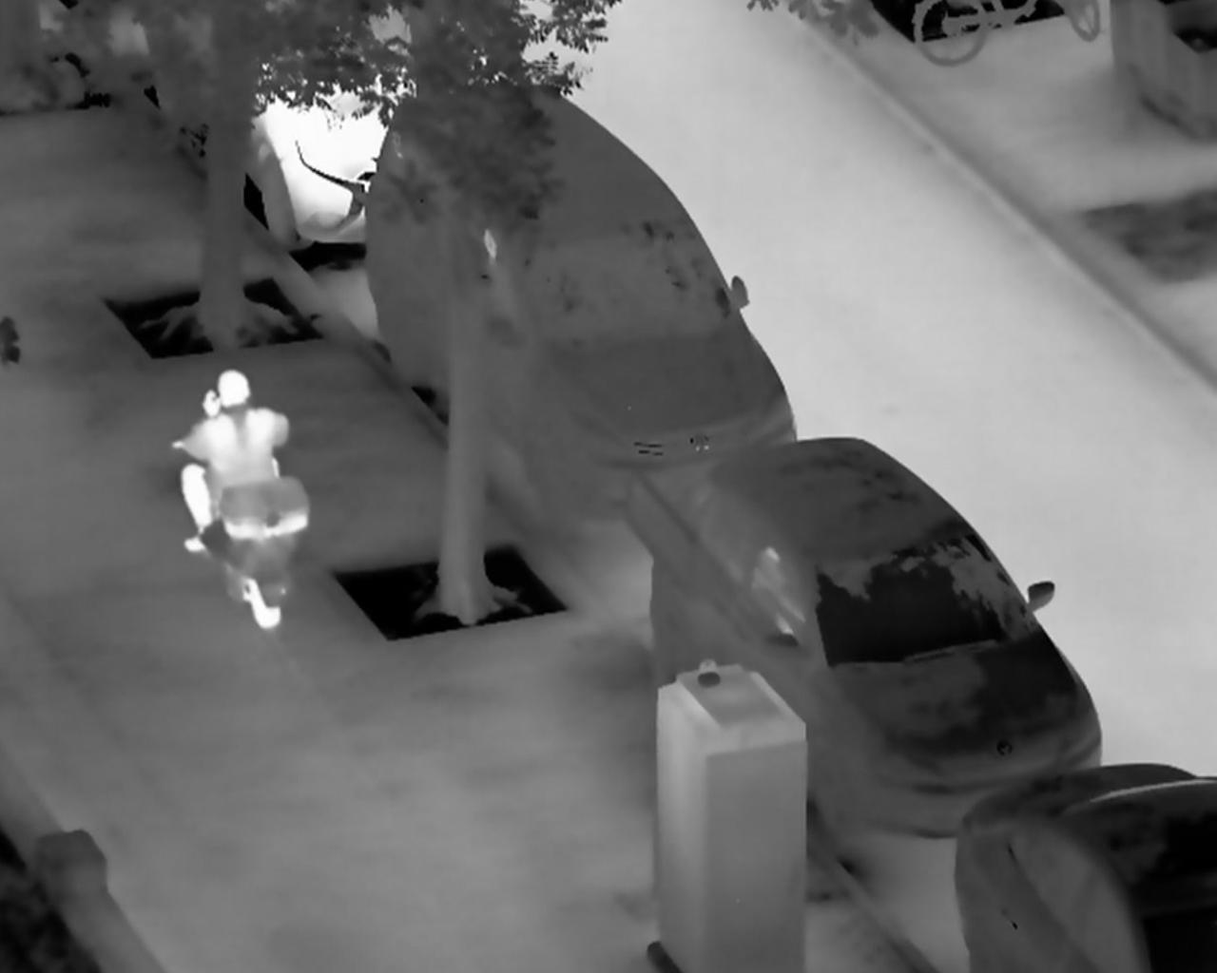person: (167, 365, 291, 564)
